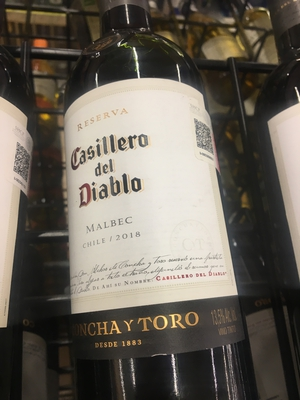casillero del diablo malbec: (49, 25, 237, 400)
